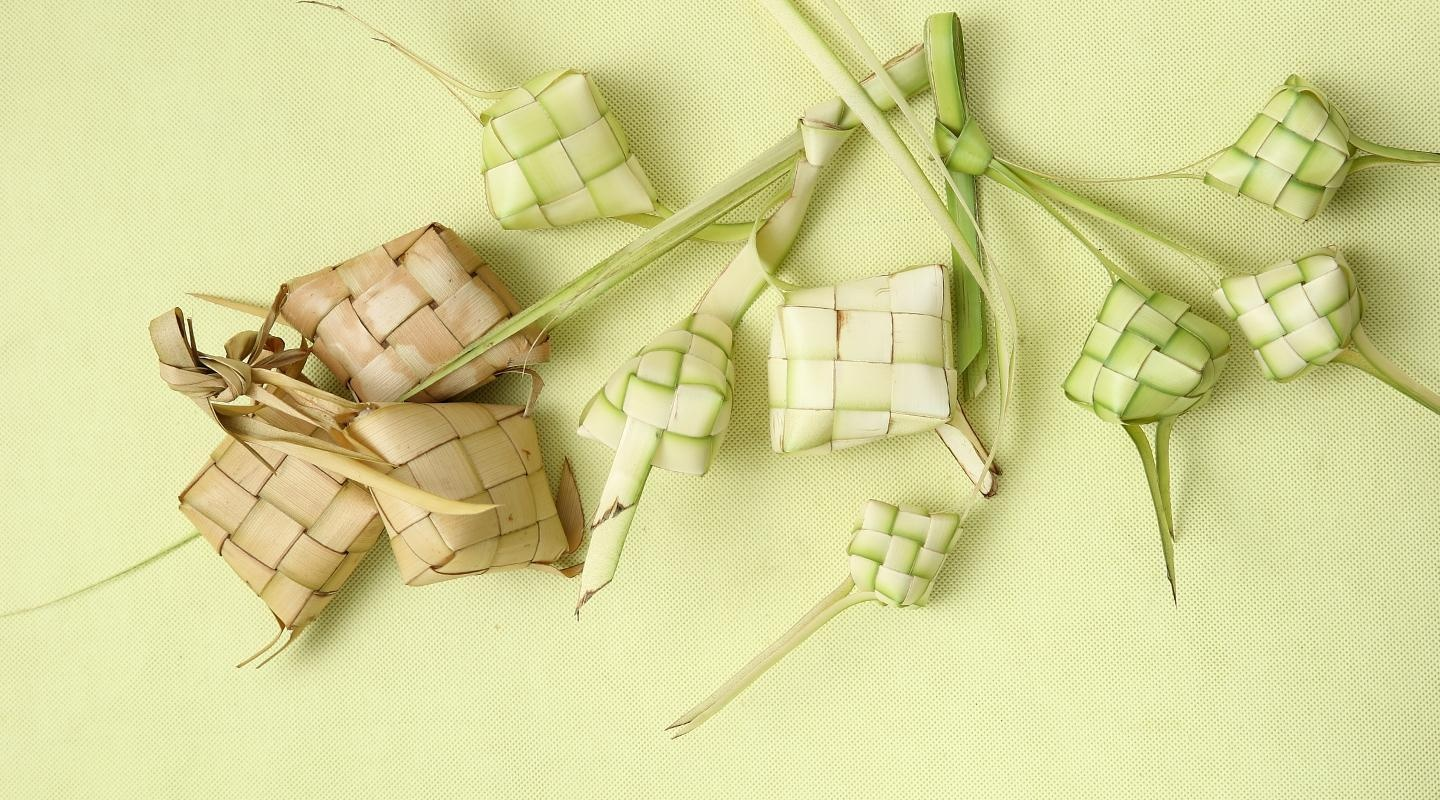ketupat: (171, 400, 382, 629), (276, 222, 544, 402), (352, 408, 570, 588), (764, 263, 958, 455), (477, 67, 659, 228), (576, 312, 739, 476), (1060, 277, 1232, 427), (1202, 75, 1357, 226), (1210, 248, 1366, 384), (837, 496, 962, 606)
